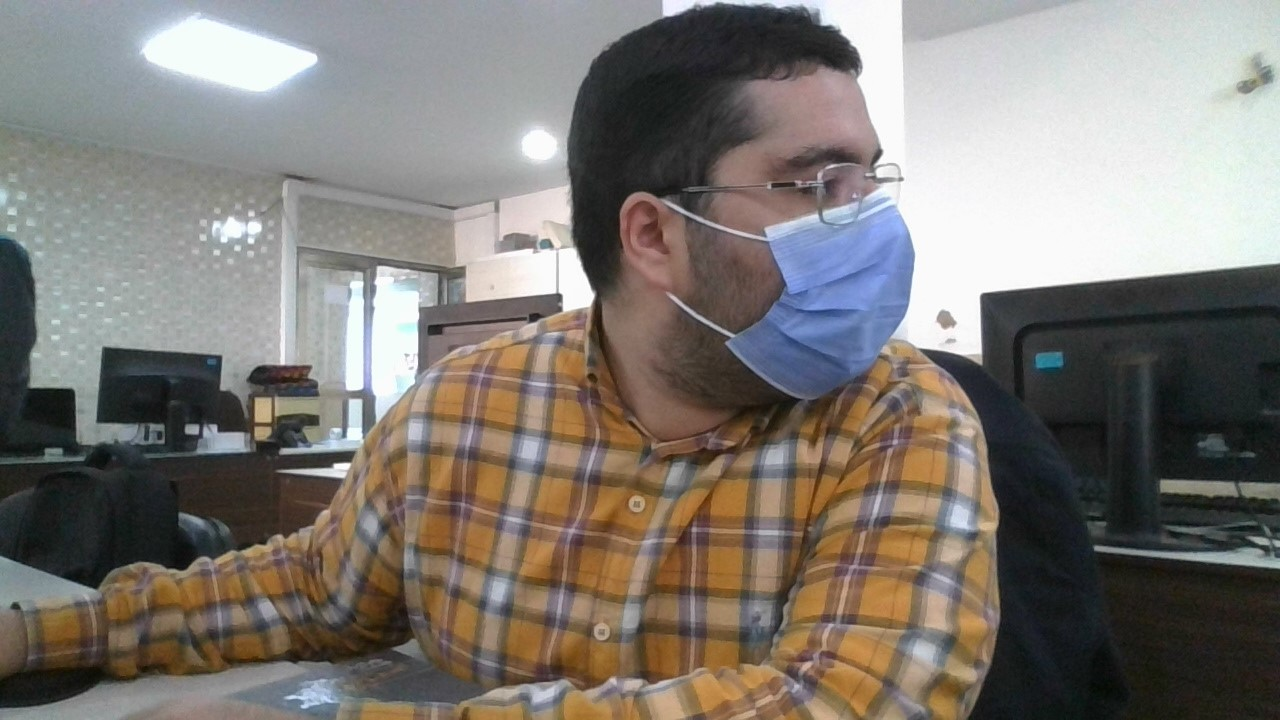Mask: (721, 187, 914, 403)
